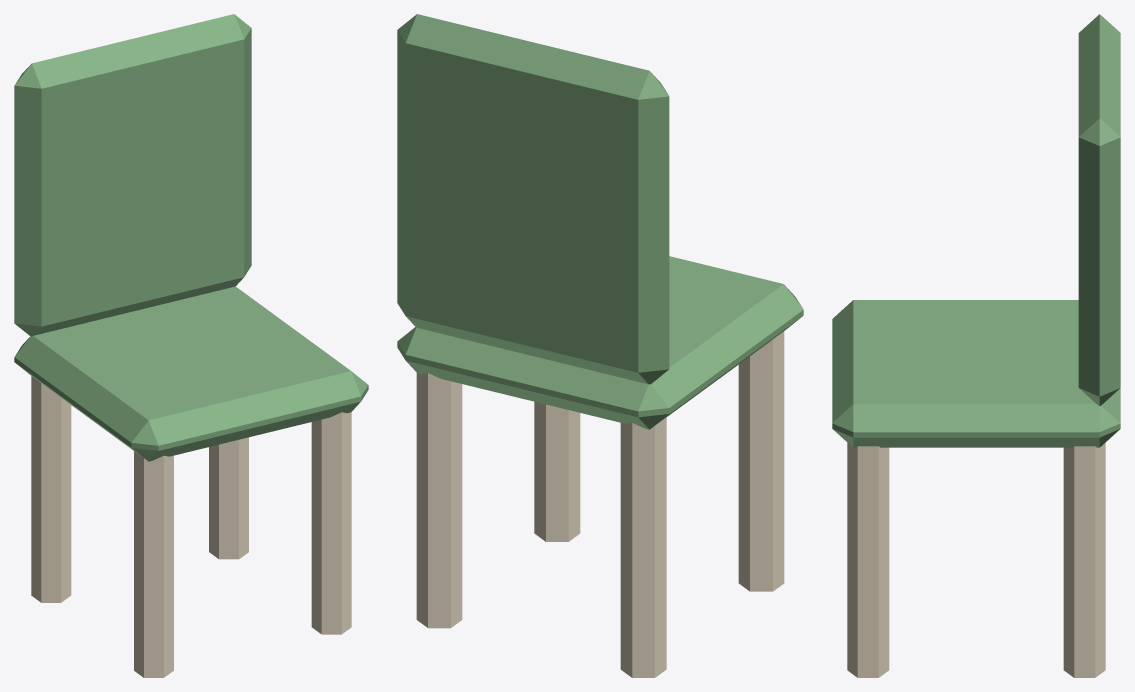
3 renders of one model, left to right at view 1: azimuth 30°, elevation 25°; view 2: azimuth 150°, elevation 25°; view 3: azimuth 270°, elevation 25°, orthographic. The views are drawn at different scales.
Visible parts, largest first — view 1: Backrest, Seat, Leg.002, Leg, Leg.001, Leg.003; view 2: Backrest, Seat, Leg.001, Leg.003, Leg, Leg.002; view 3: Seat, Backrest, Leg.002, Leg.003.
Part boxes in pixels (x1=…): Backrest: x1=14, y1=14, x2=251, y2=336; Seat: x1=14, y1=286, x2=368, y2=461; Leg.002: x1=311, y1=412, x2=351, y2=634; Leg: x1=134, y1=451, x2=173, y2=677; Leg.001: x1=31, y1=376, x2=71, y2=602; Leg.003: x1=209, y1=437, x2=248, y2=559; Backrest: x1=397, y1=14, x2=669, y2=384; Seat: x1=397, y1=256, x2=803, y2=429; Leg.001: x1=620, y1=417, x2=666, y2=677; Leg.003: x1=416, y1=373, x2=462, y2=628; Leg: x1=738, y1=331, x2=784, y2=591; Leg.002: x1=534, y1=401, x2=580, y2=541; Seat: x1=832, y1=300, x2=1120, y2=447; Backrest: x1=1078, y1=14, x2=1120, y2=405; Leg.002: x1=847, y1=443, x2=889, y2=677; Leg.003: x1=1063, y1=443, x2=1105, y2=677.
Size of the model in its own units: 48 by 102 by 48.
